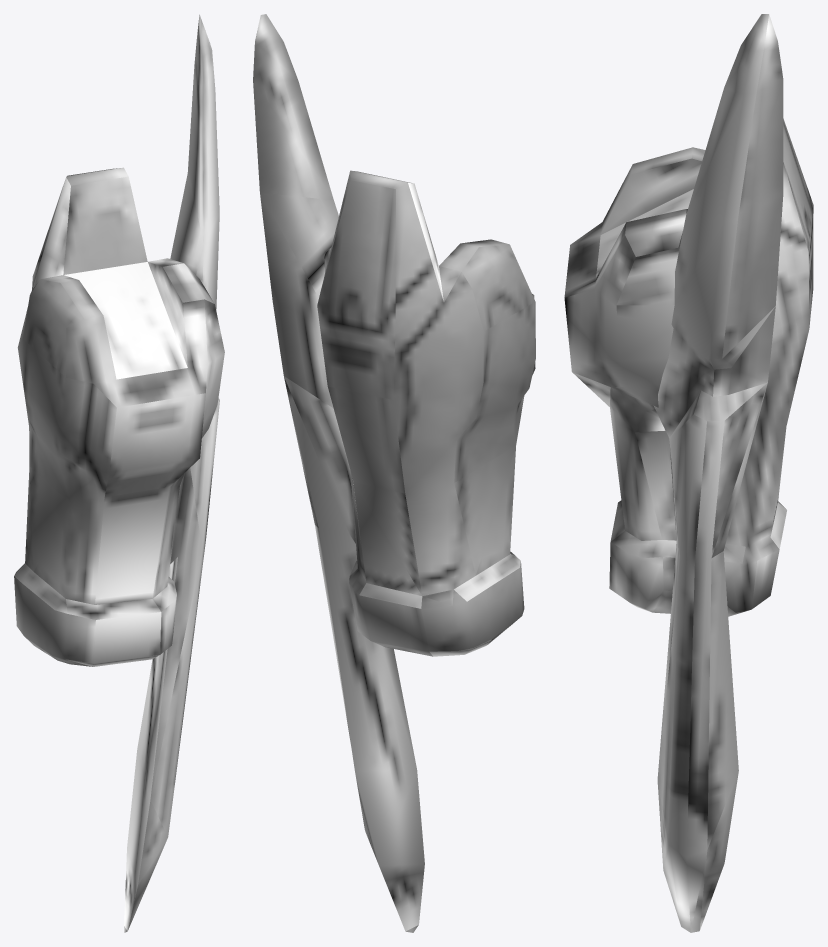
The model's file is l_fore.glb.
The picture shows the model from 3 angles, left to right: view 1: azimuth 30°, elevation 25°; view 2: azimuth 150°, elevation 25°; view 3: azimuth 270°, elevation 25°; orthographic projection. The views are drawn at different scales.
Visible parts, largest first — view 1: l_fore; view 2: l_fore; view 3: l_fore.
Part boxes in pixels (x1,y1,x2,y2): l_fore: (14, 14, 224, 932); l_fore: (253, 14, 535, 932); l_fore: (564, 14, 813, 932).
Size of the model in its own units: 1.08 by 4.33 by 0.9972.
3 materials, 3 textured.
